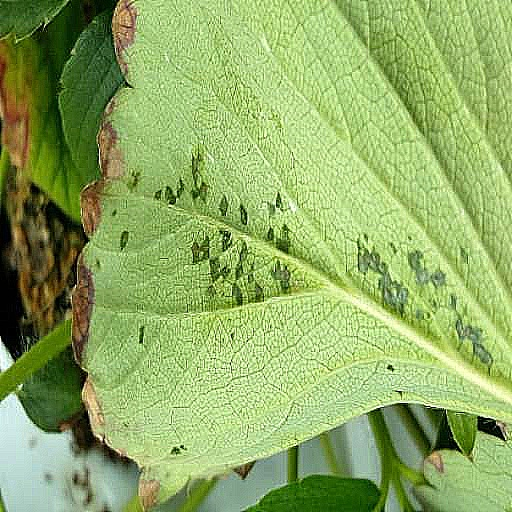Angular Leafspot: (69, 0, 503, 511)
